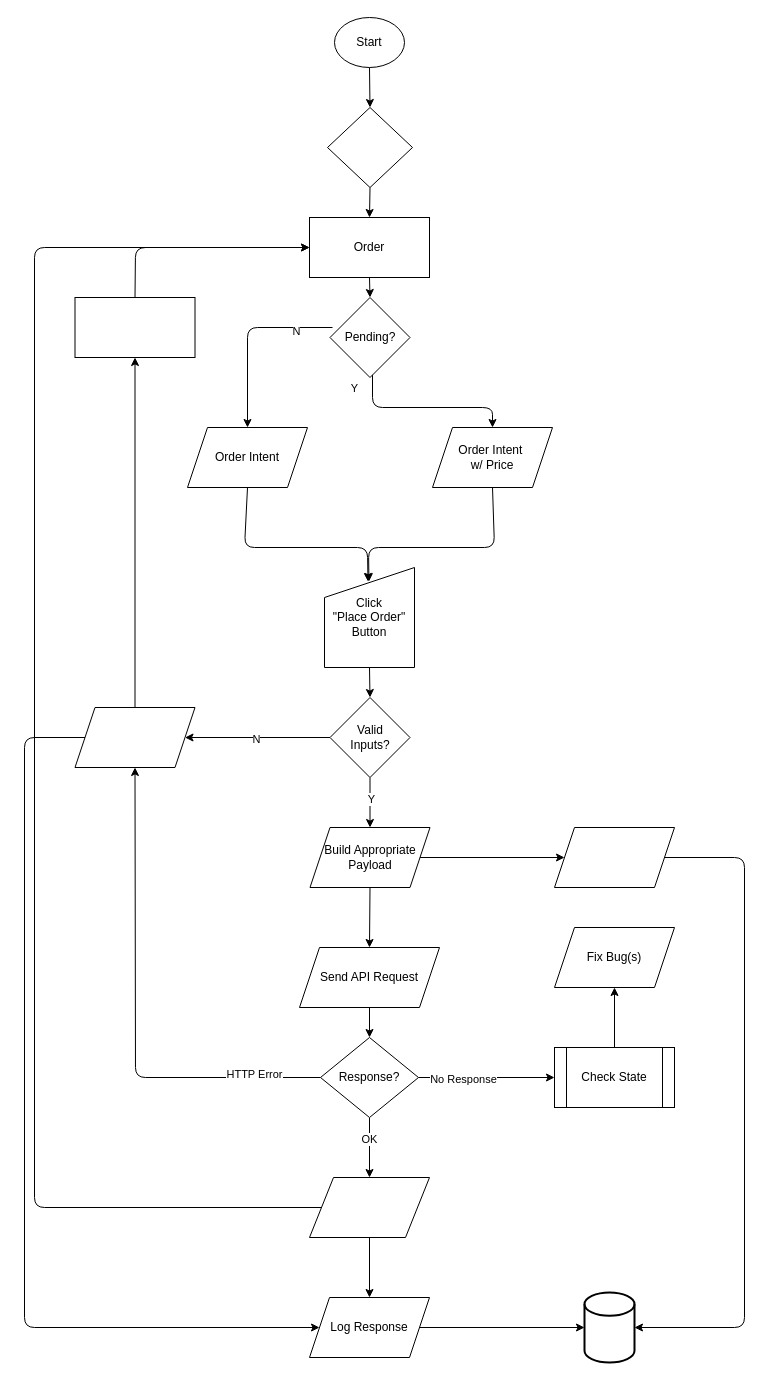
This 770x1381 diagram has some shape labels left out. The shapes that lost their labels are listed below. From the top down, each one's box as (x1, y1, x2, y2) in pixels, then its label:
(326, 106, 412, 188): Which Card?
(74, 296, 195, 358): Display Error
(74, 706, 195, 768): Identify Error
(554, 826, 674, 888): Log Intent & Payload
(308, 1176, 430, 1238): Record & Display
(583, 1291, 635, 1363): oms database
